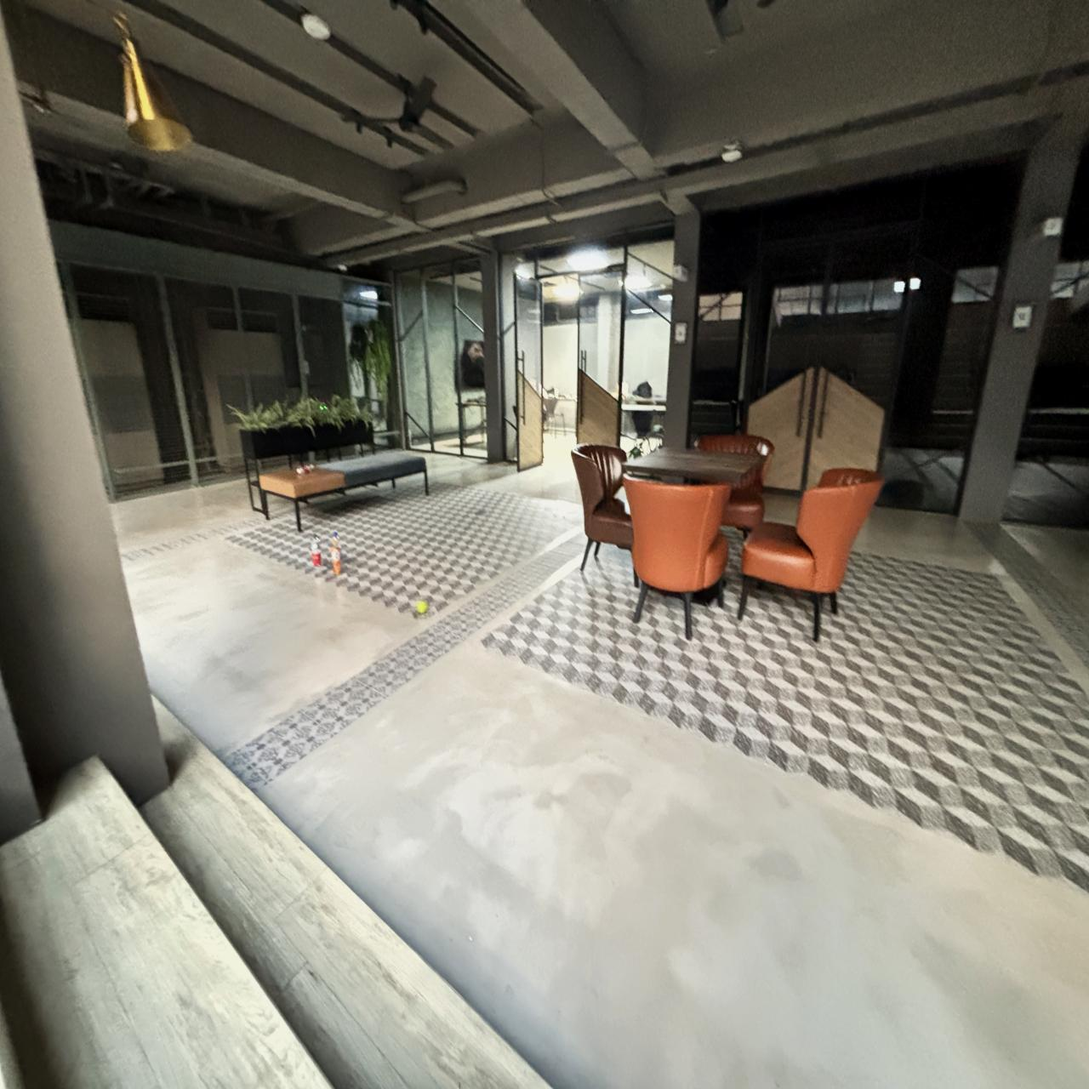plastic-bottle: (312, 544, 324, 584), (312, 534, 324, 572), (331, 540, 342, 575), (332, 533, 343, 567)
tennisball: (418, 600, 427, 614)
